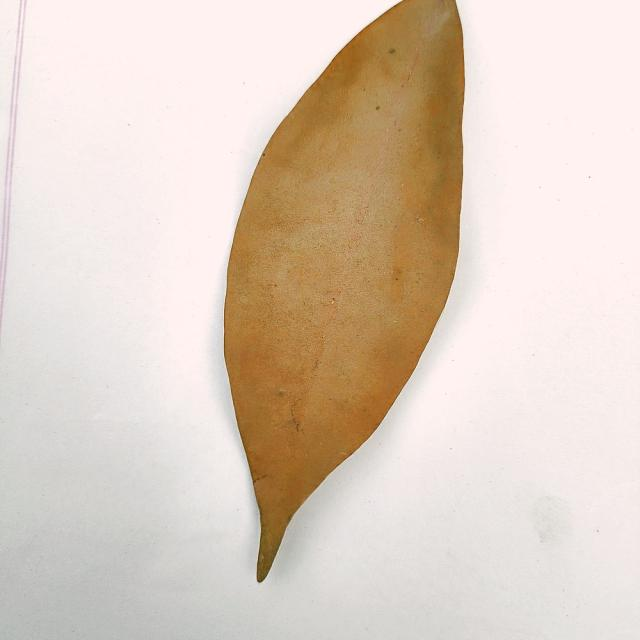Dry_Leaf-Lychee: (223, 0, 467, 585)
